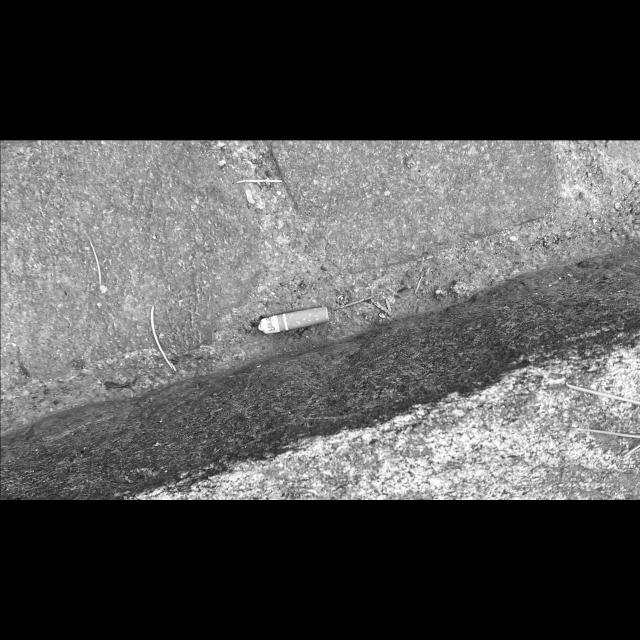cigarette: (258, 305, 330, 334)
